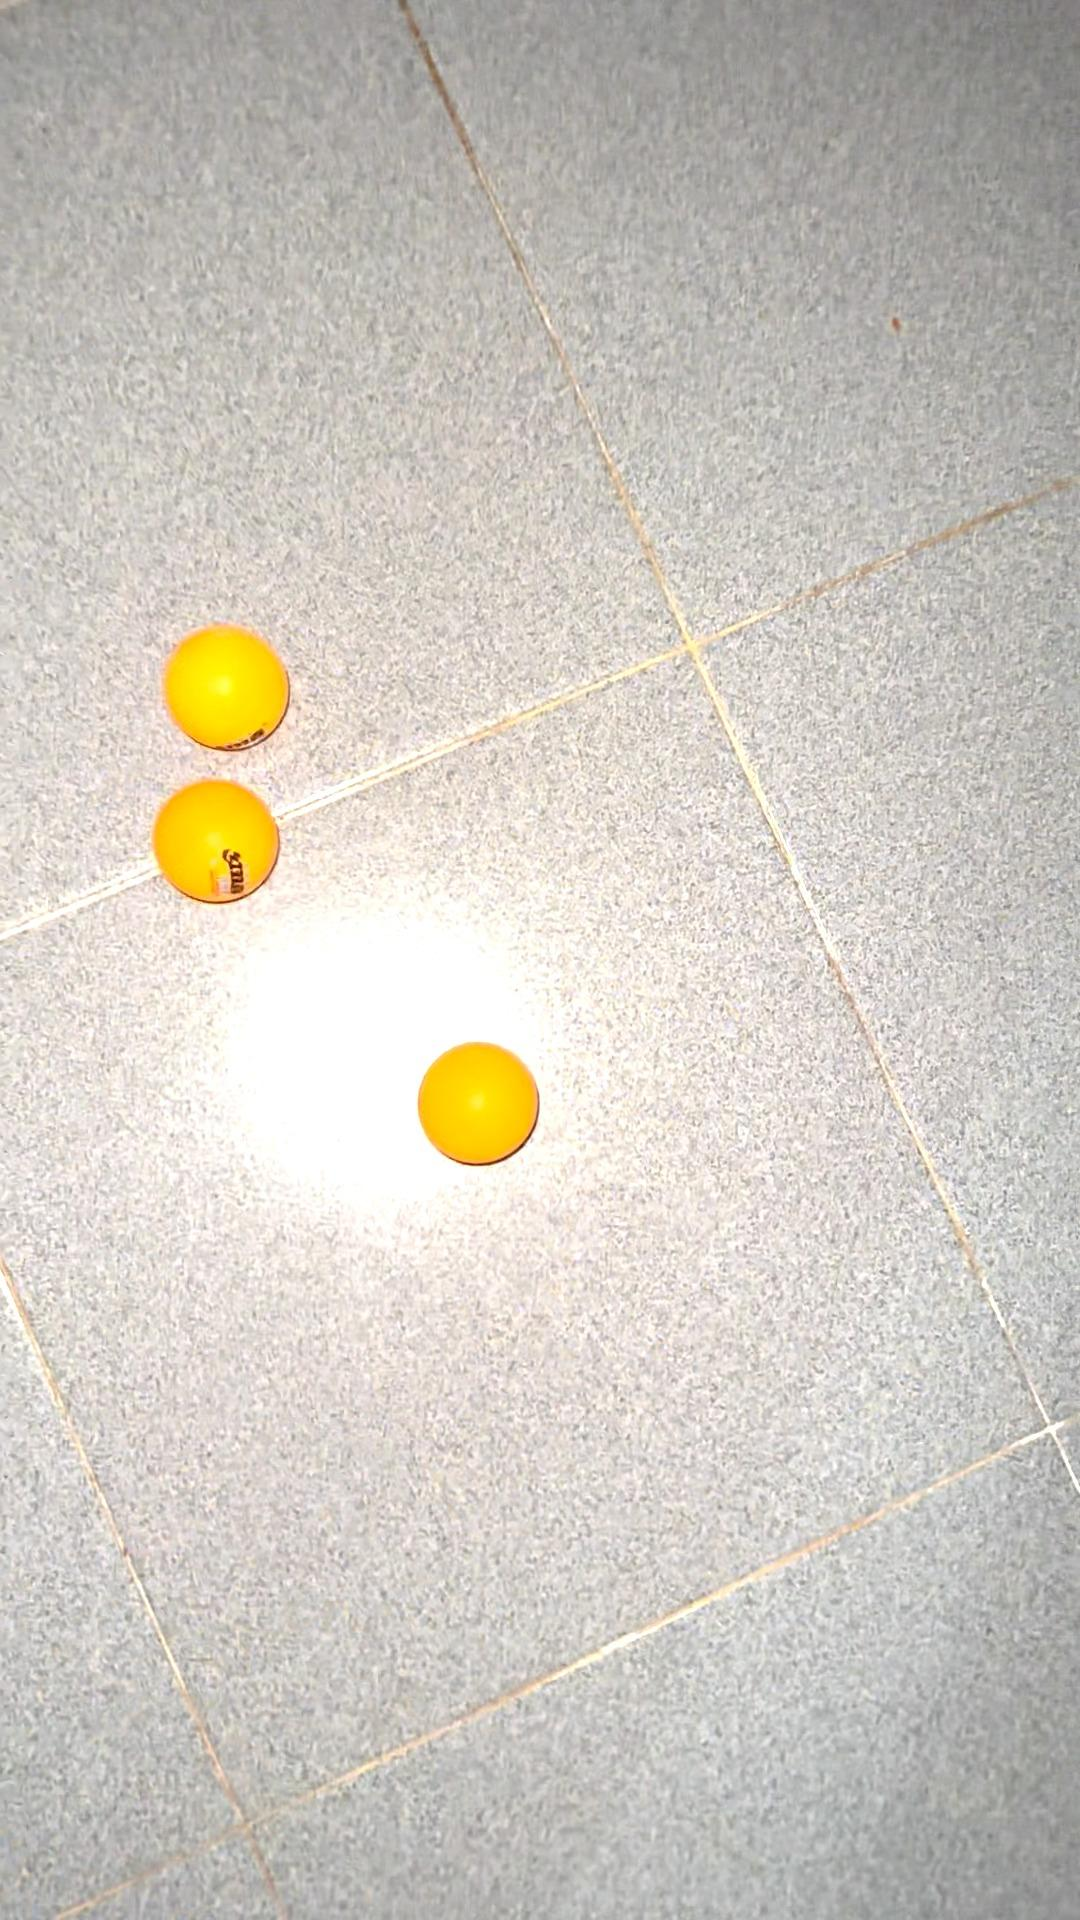oball: (145, 765, 284, 913), (149, 613, 293, 749), (407, 1038, 542, 1168)
